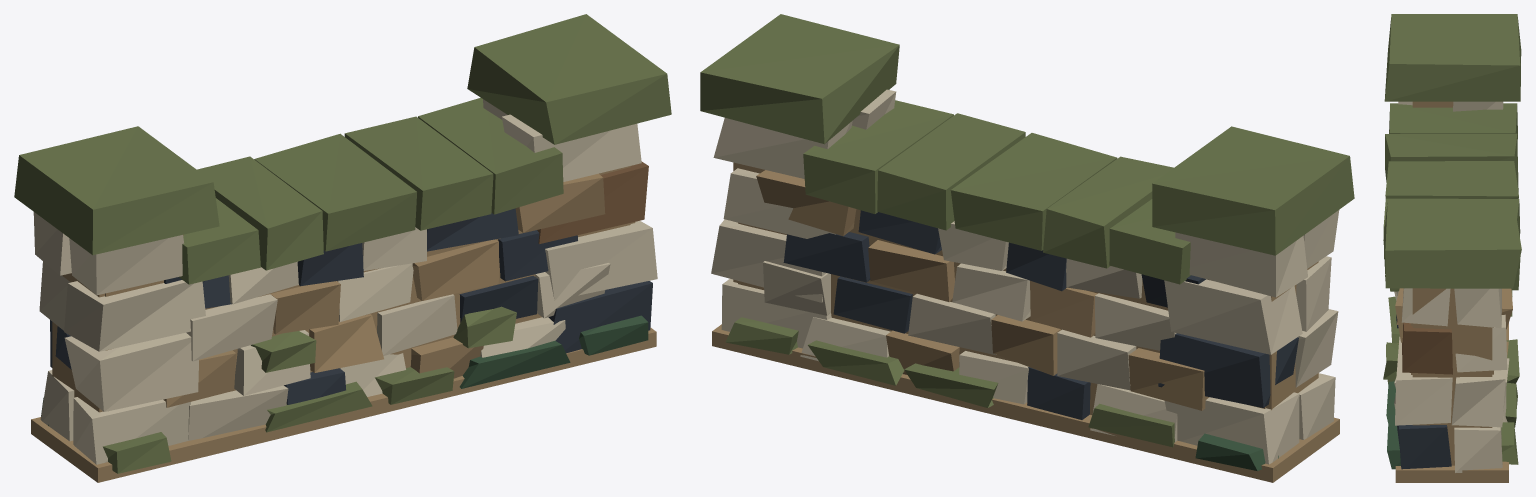
File: low-stone-wall-8a8ea3.glb
3 views of the same model, side by side, from view 1: azimuth 30°, elevation 25°; view 2: azimuth 150°, elevation 25°; view 3: azimuth 270°, elevation 25° (orthographic). The views are drawn at different scales.
Visible parts, largest first — view 1: stone-mesh; view 2: stone-mesh; view 3: stone-mesh.
Boxes of the visible parts, x1,y1,x2,y2 form: stone-mesh: [14, 14, 671, 482]; stone-mesh: [700, 14, 1354, 482]; stone-mesh: [1383, 14, 1521, 482].
Bounding box in the file's own units: 2.05 × 0.9386 × 0.5024.
